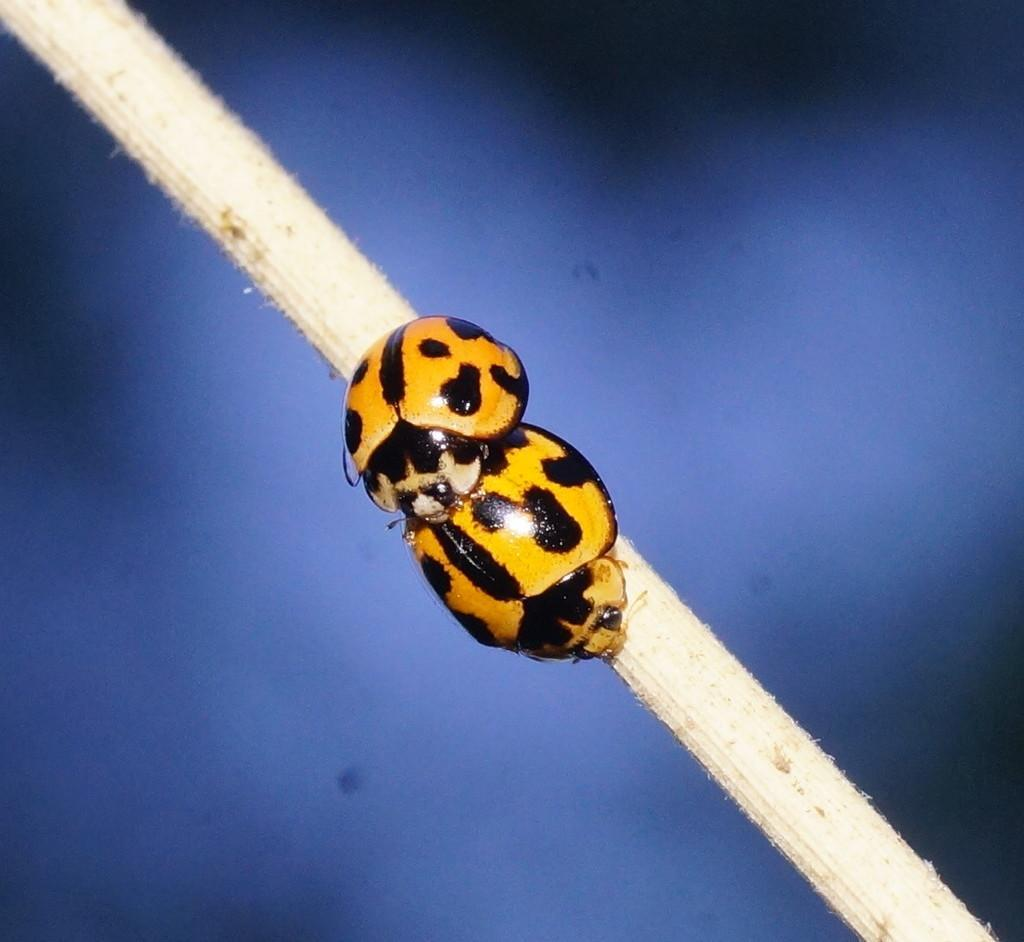ladybug: (401, 419, 655, 671), (341, 312, 535, 535)
